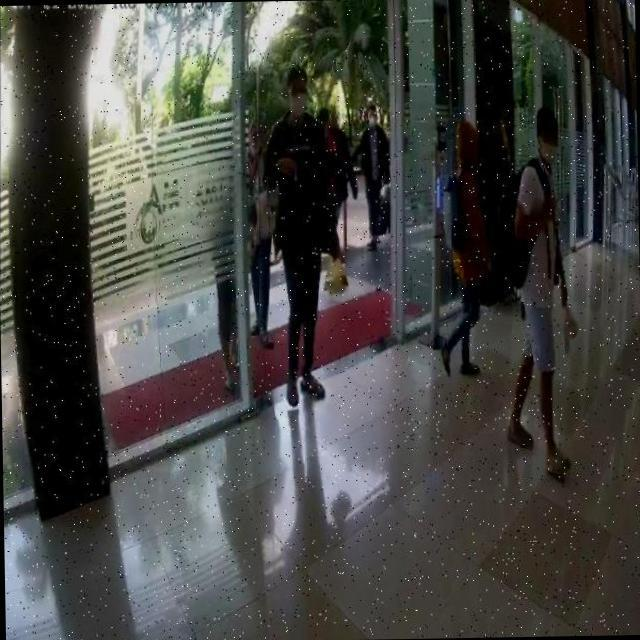person: (502, 103, 580, 484), (256, 70, 332, 407), (439, 116, 493, 379), (318, 105, 354, 294), (356, 98, 390, 248)
